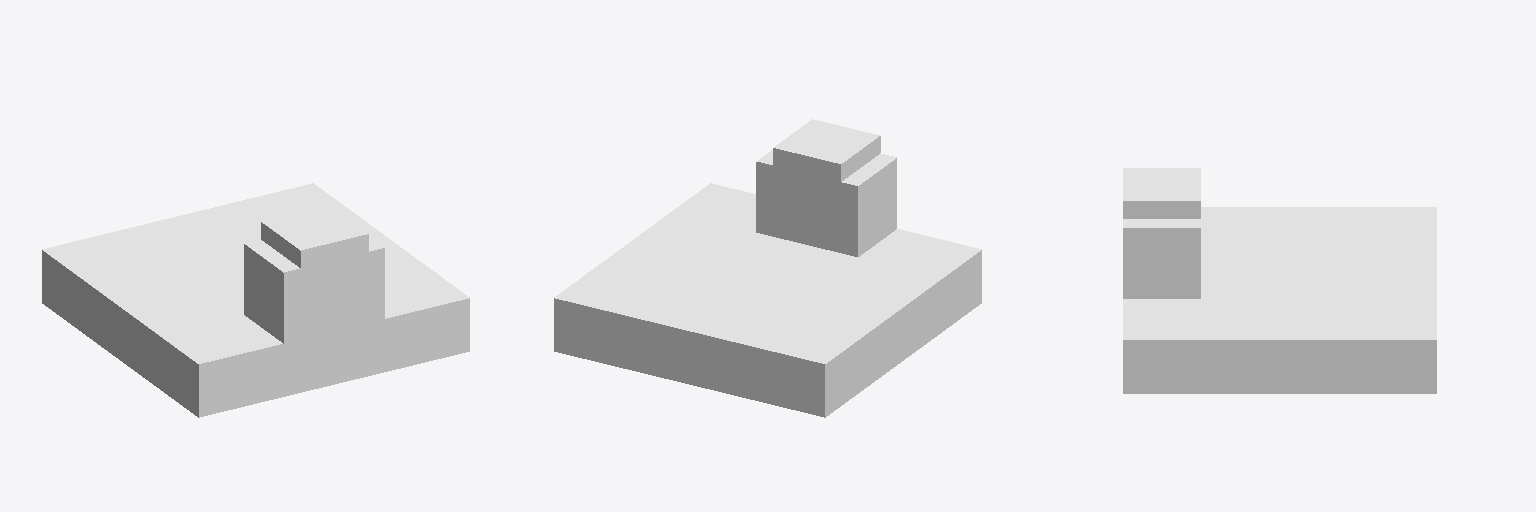
Rendered from bace.obj.
3 renders of one model, left to right at view 1: azimuth 30°, elevation 25°; view 2: azimuth 150°, elevation 25°; view 3: azimuth 270°, elevation 25°, orthographic.
Visible parts, largest first — view 1: base; view 2: base; view 3: base.
Boxes of the visible parts, box(x1,y1,x2,y2) form: base: box(42, 183, 469, 417); base: box(554, 119, 981, 417); base: box(1123, 168, 1436, 393).
Size of the model in its own units: 16 by 8 by 16.